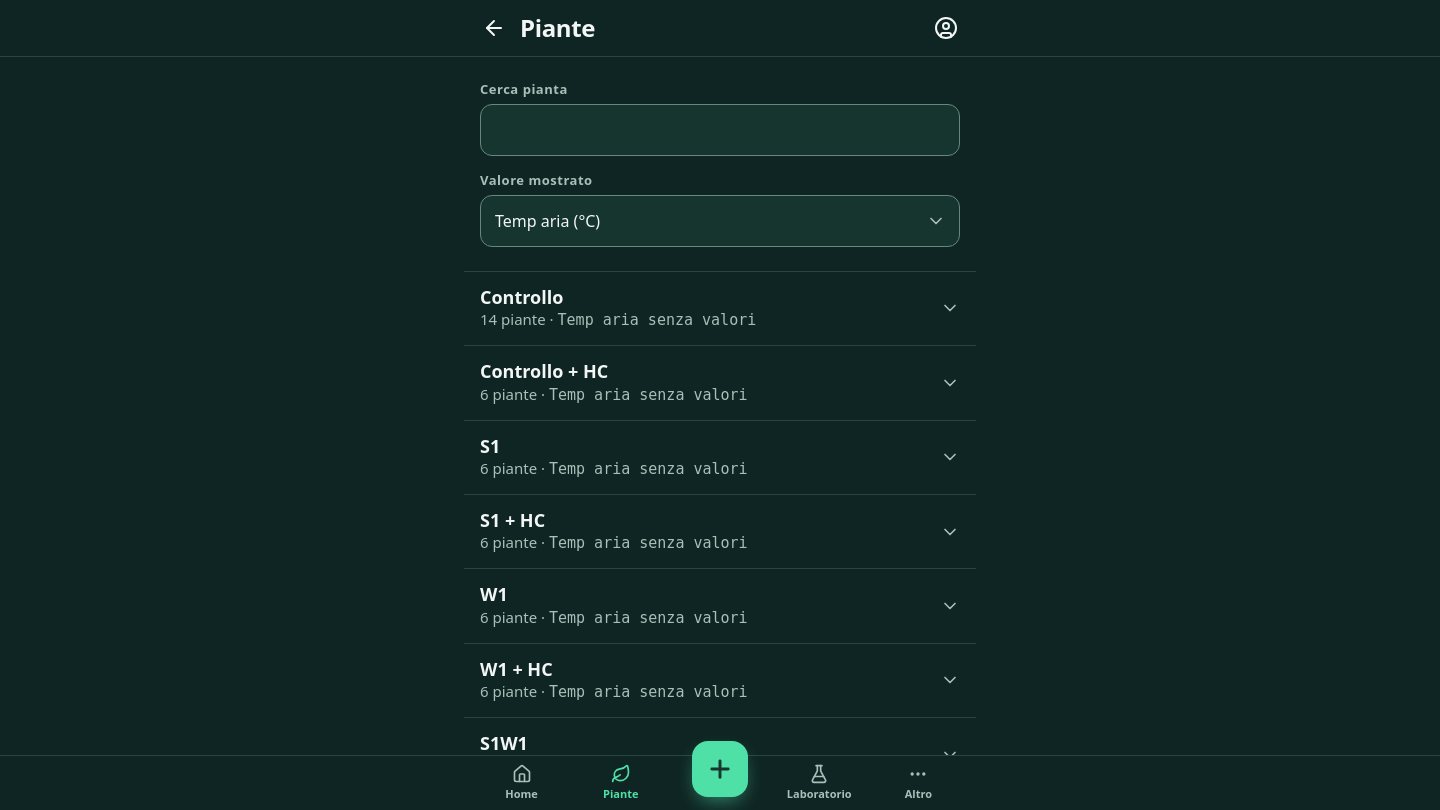
ElencoPiante: la ricerca › un testo breve trova più piante in più trattamenti
Type "5" into the search field labelled "Cerca pianta". click: (720, 130)
box: [480,104,960,156]
(page scrolled)
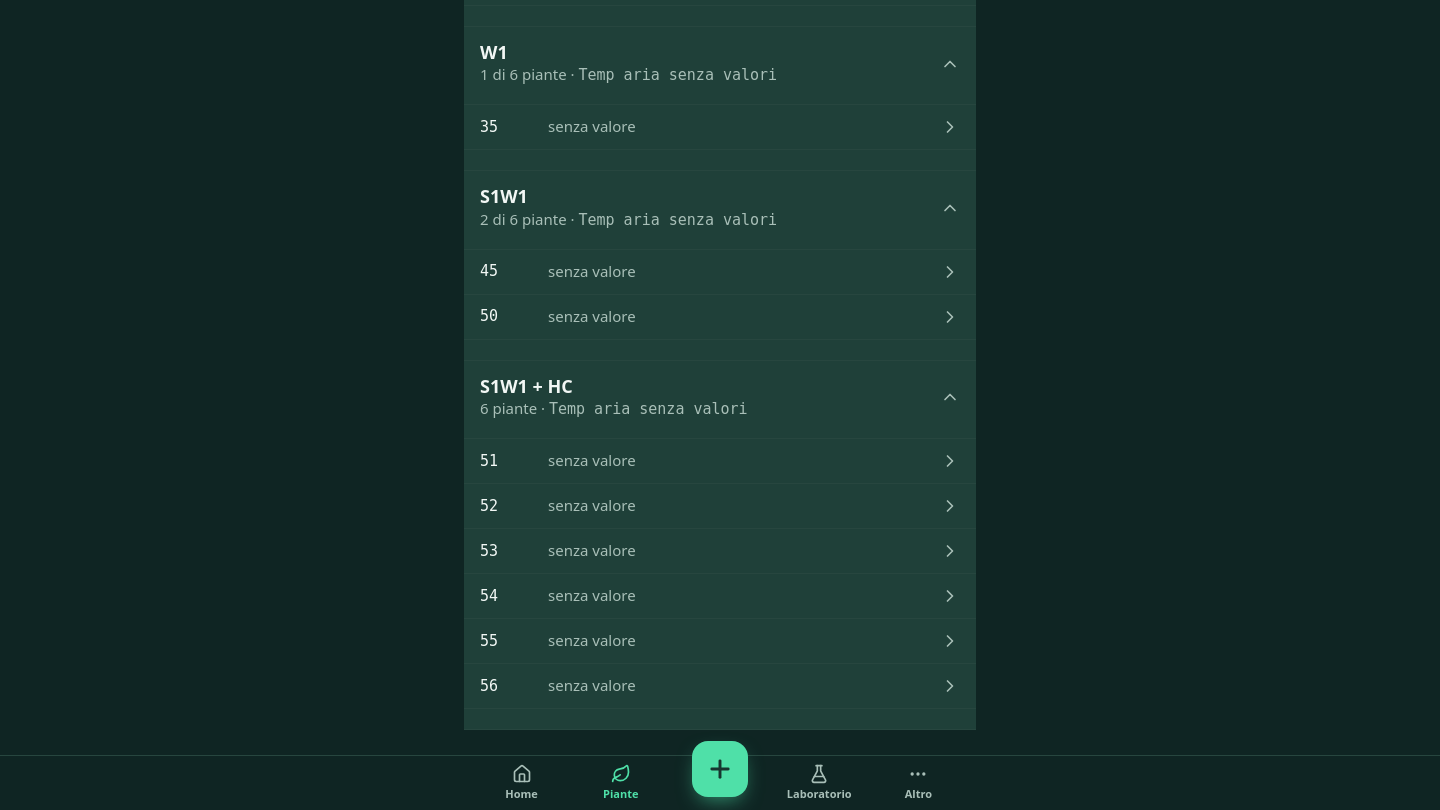
Now the button "W1 1 di 6 piante · Temp aria senza valori" is expanded, box [464,27,976,100]
Now the button "S1W1 2 di 6 piante · Temp aria senza valori" is expanded, box [464,171,976,245]
Now the button "S1W1 + HC 6 piante · Temp aria senza valori" is expanded, box [464,361,976,434]
